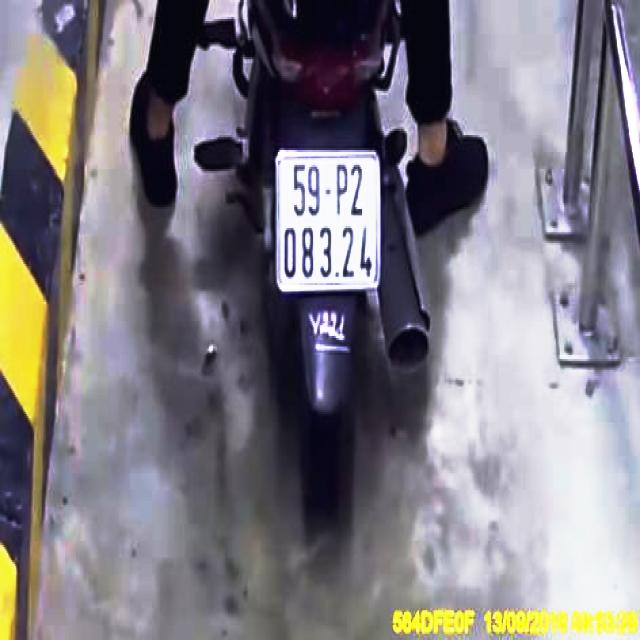license_plate: (279, 157, 380, 286)
